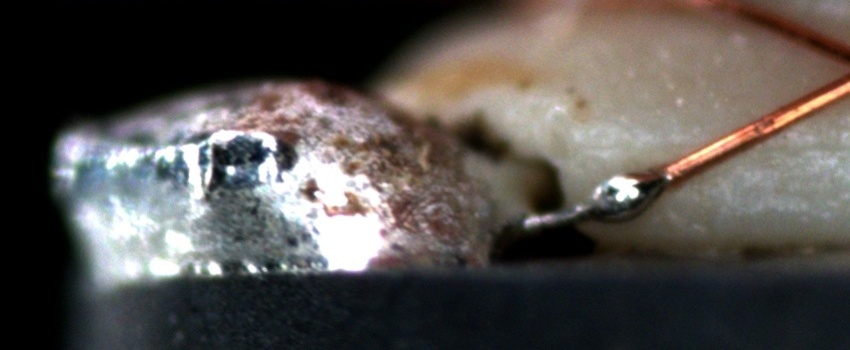CL: (828, 35, 850, 93)
DL: (624, 119, 849, 183)
TB: (577, 159, 666, 229)
TS: (521, 173, 672, 234)
TTCW: (519, 144, 712, 233)
